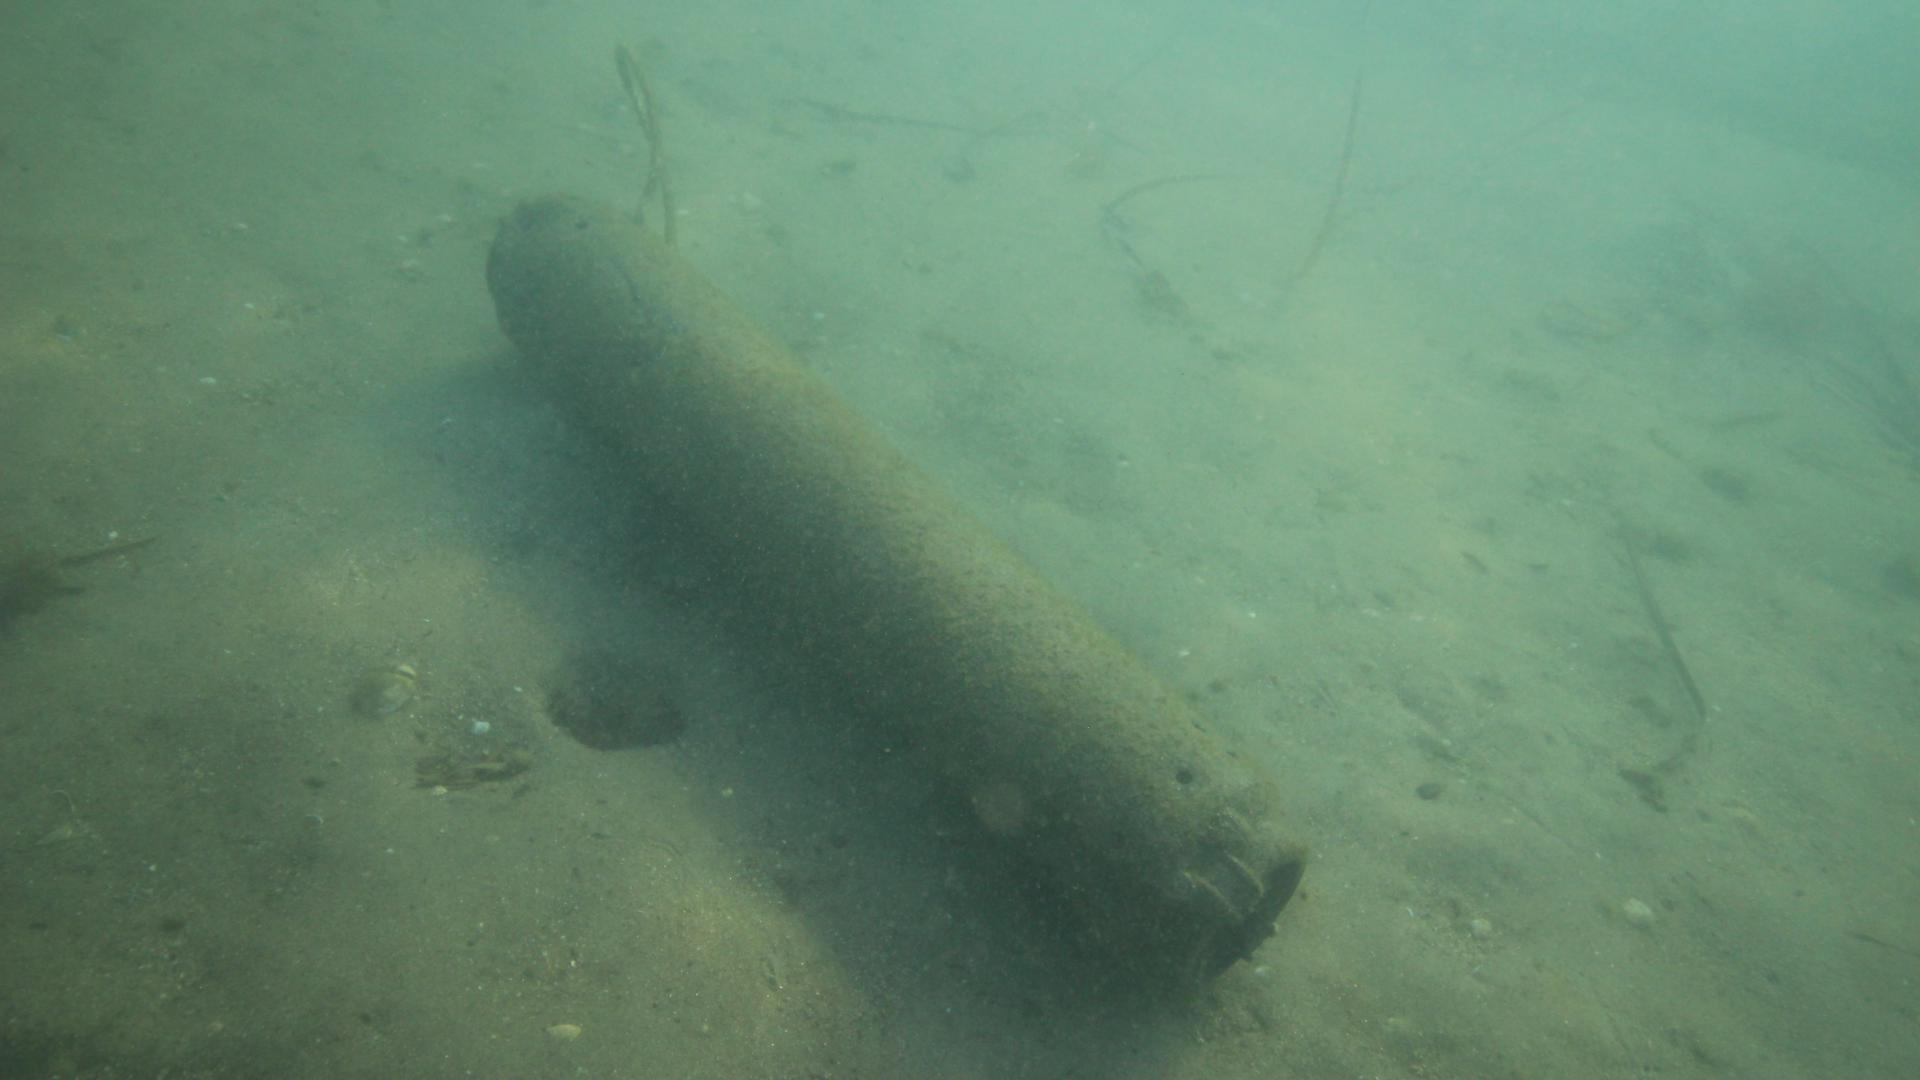eel fish trap: (487, 193, 1307, 988)
rope: (612, 38, 679, 247)
